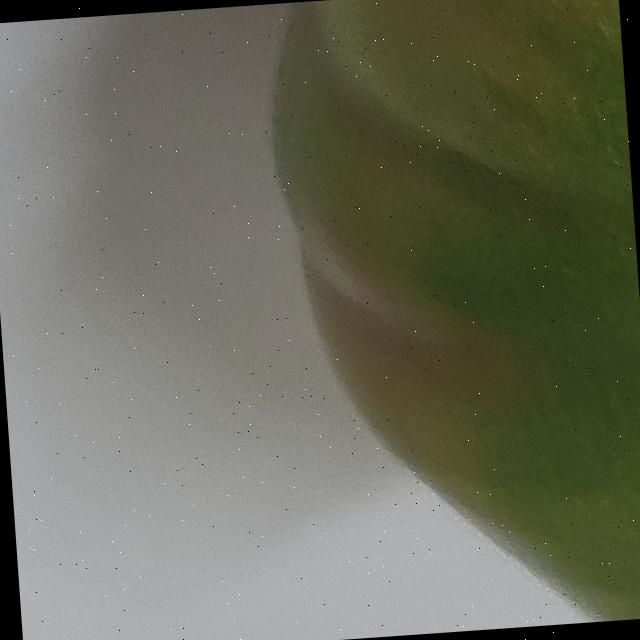tomato: (30, 0, 640, 640)
